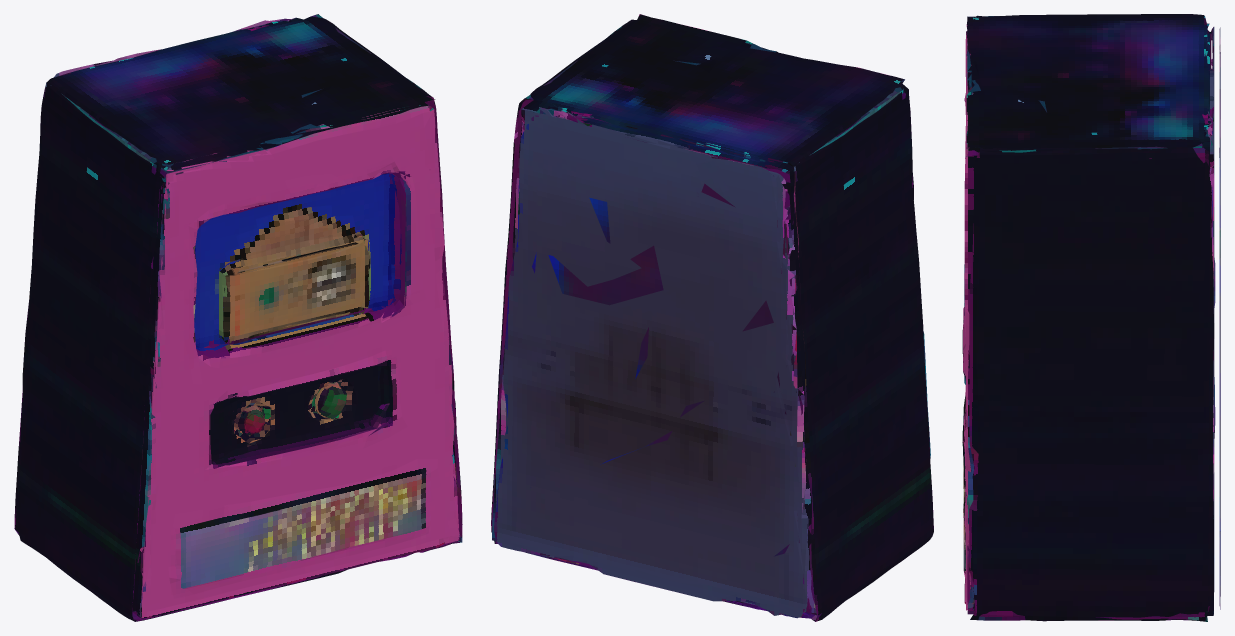
Rendered from Arcade_MimicMemory_QuadRetro.glb.
3 views of the same model, side by side, from view 1: azimuth 30°, elevation 25°; view 2: azimuth 150°, elevation 25°; view 3: azimuth 270°, elevation 25° (orthographic). The views are drawn at different scales.
Visible parts, largest first — view 1: Arcade_MimicMemory_QuadRemesh; view 2: Arcade_MimicMemory_QuadRemesh; view 3: Arcade_MimicMemory_QuadRemesh.
Part boxes in pixels (left/top/right/bottom): Arcade_MimicMemory_QuadRemesh: left=14, top=14, right=462, bottom=621; Arcade_MimicMemory_QuadRemesh: left=491, top=14, right=933, bottom=621; Arcade_MimicMemory_QuadRemesh: left=962, top=14, right=1220, bottom=621.
Bounding box in the file's own units: 1.52 × 2 × 1.01.
Materials: 1 (1 with a texture image).
